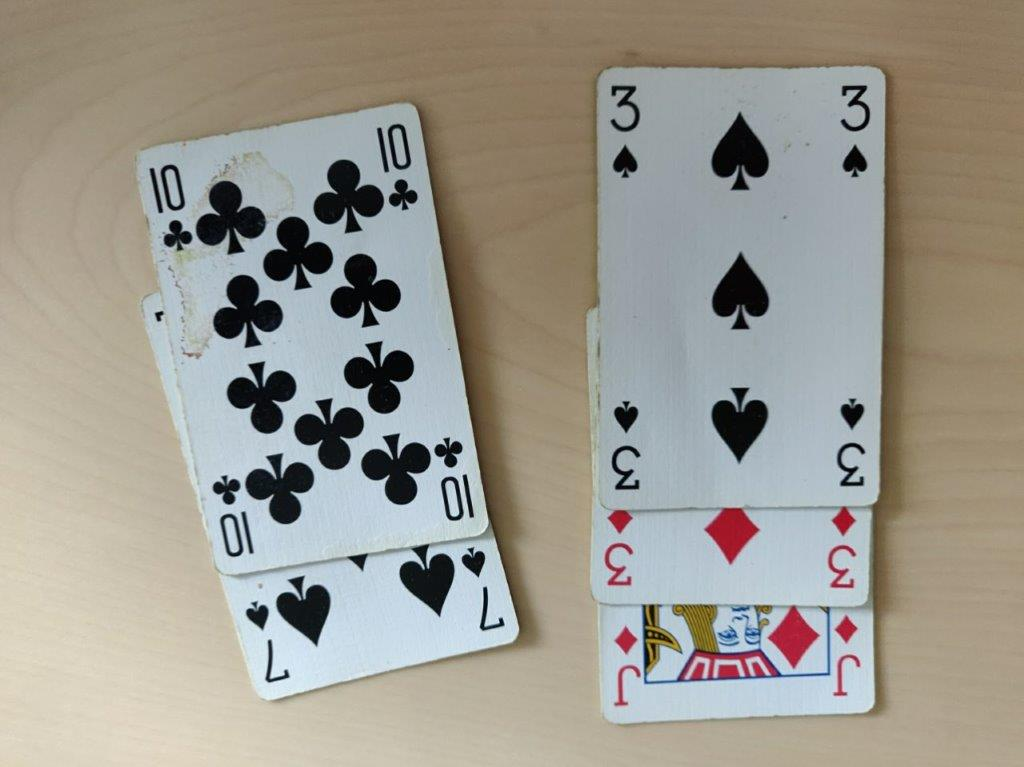10C: (128, 121, 490, 552)
3D: (593, 497, 868, 607)
3S: (599, 68, 885, 511)
7S: (237, 545, 515, 696)
JD: (589, 596, 890, 730)
